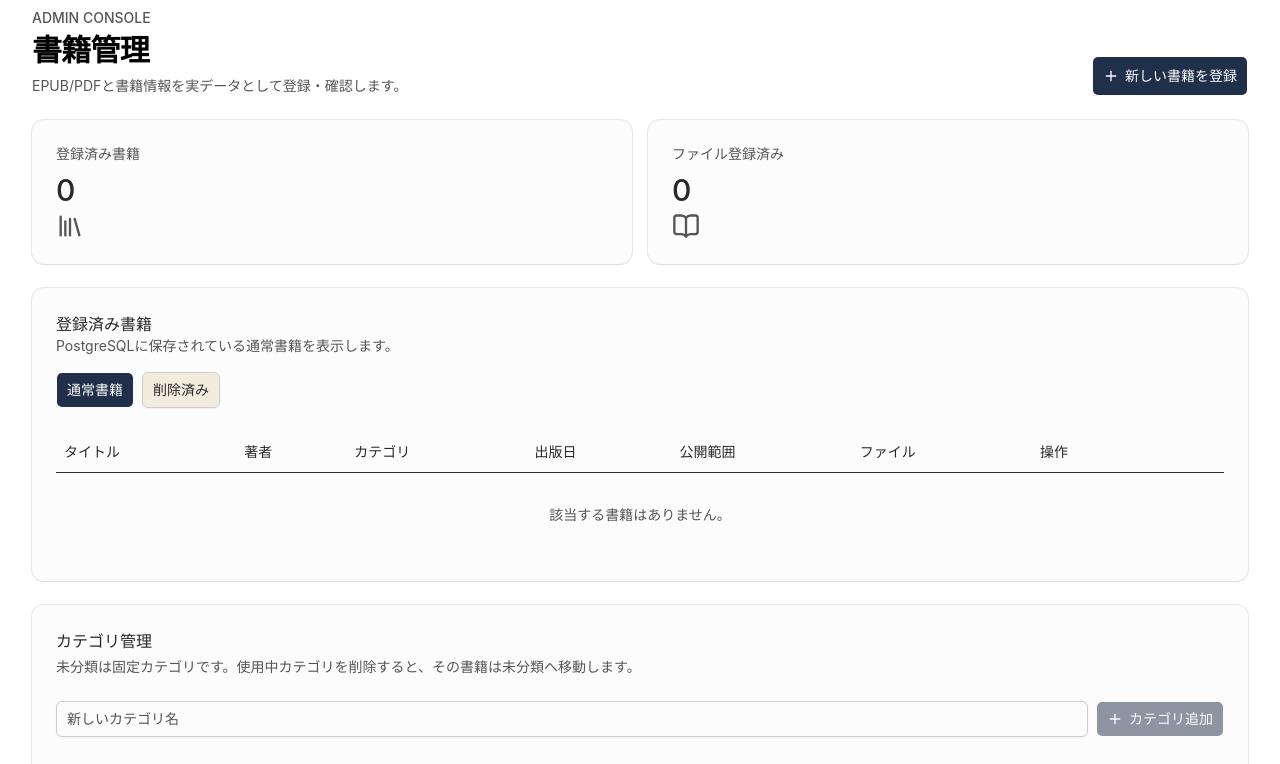
Test: Admin persisted book management › カテゴリを追加して一覧へ反映する
The image size is (1280, 764).
Type "科学" into the field labelled "新しいカテゴリ名". click: (572, 718)
box: 56,700 -> 1088,736
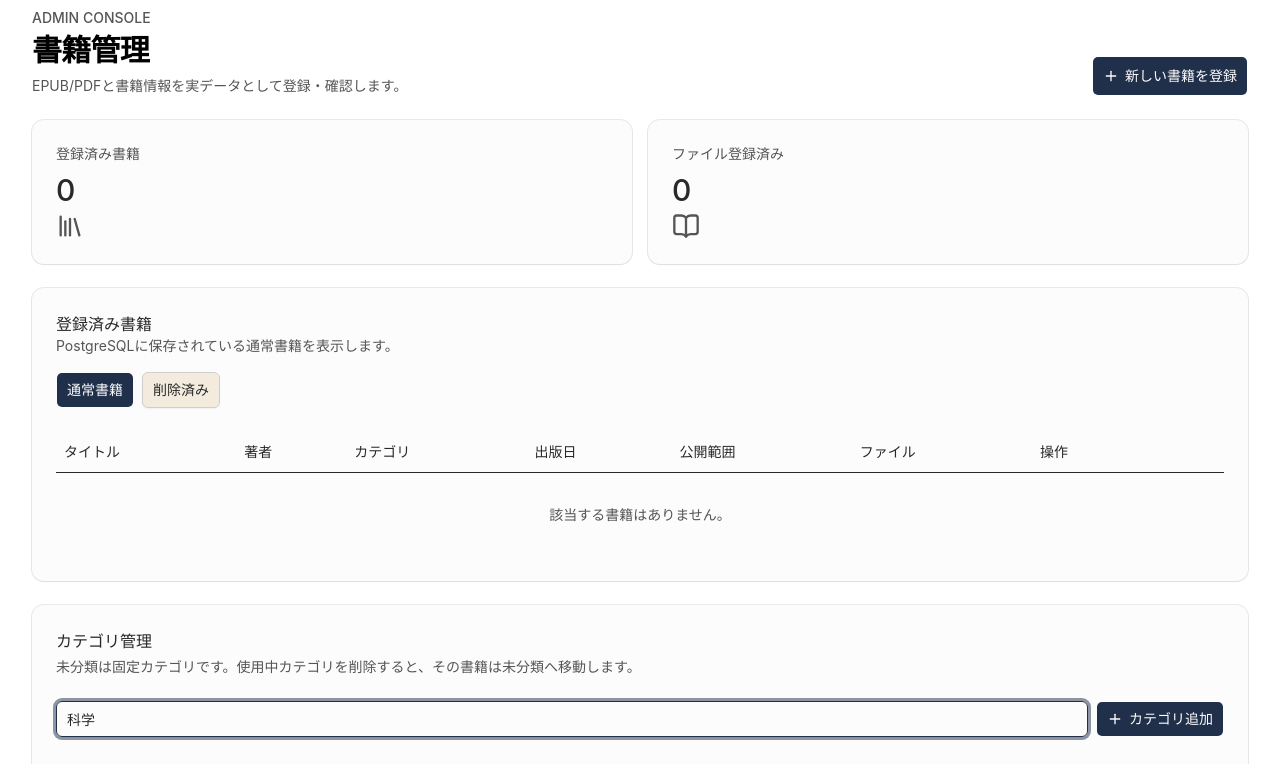
Click the button "カテゴリ追加". click: click(1160, 718)
box: 1096,700 -> 1224,736
(page scrolled)
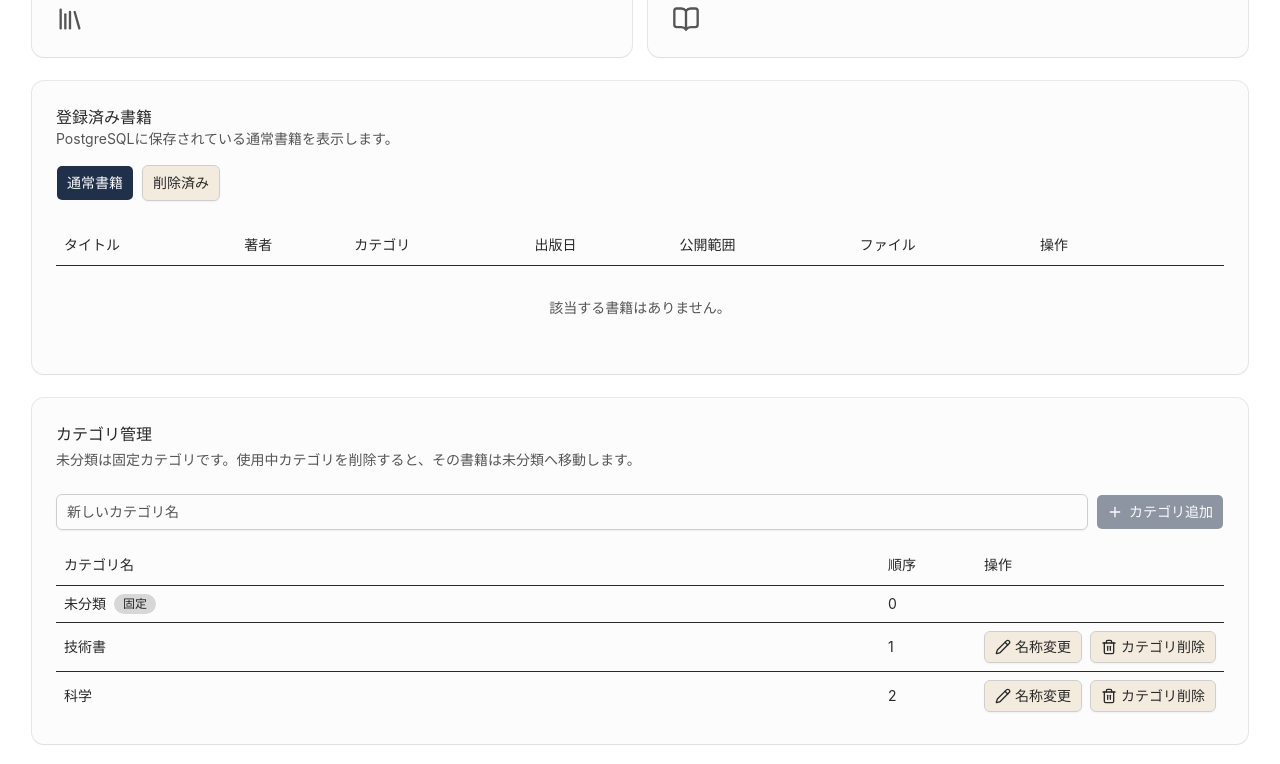
expect the text "科学" is shown: met, box 64,686 -> 92,706
